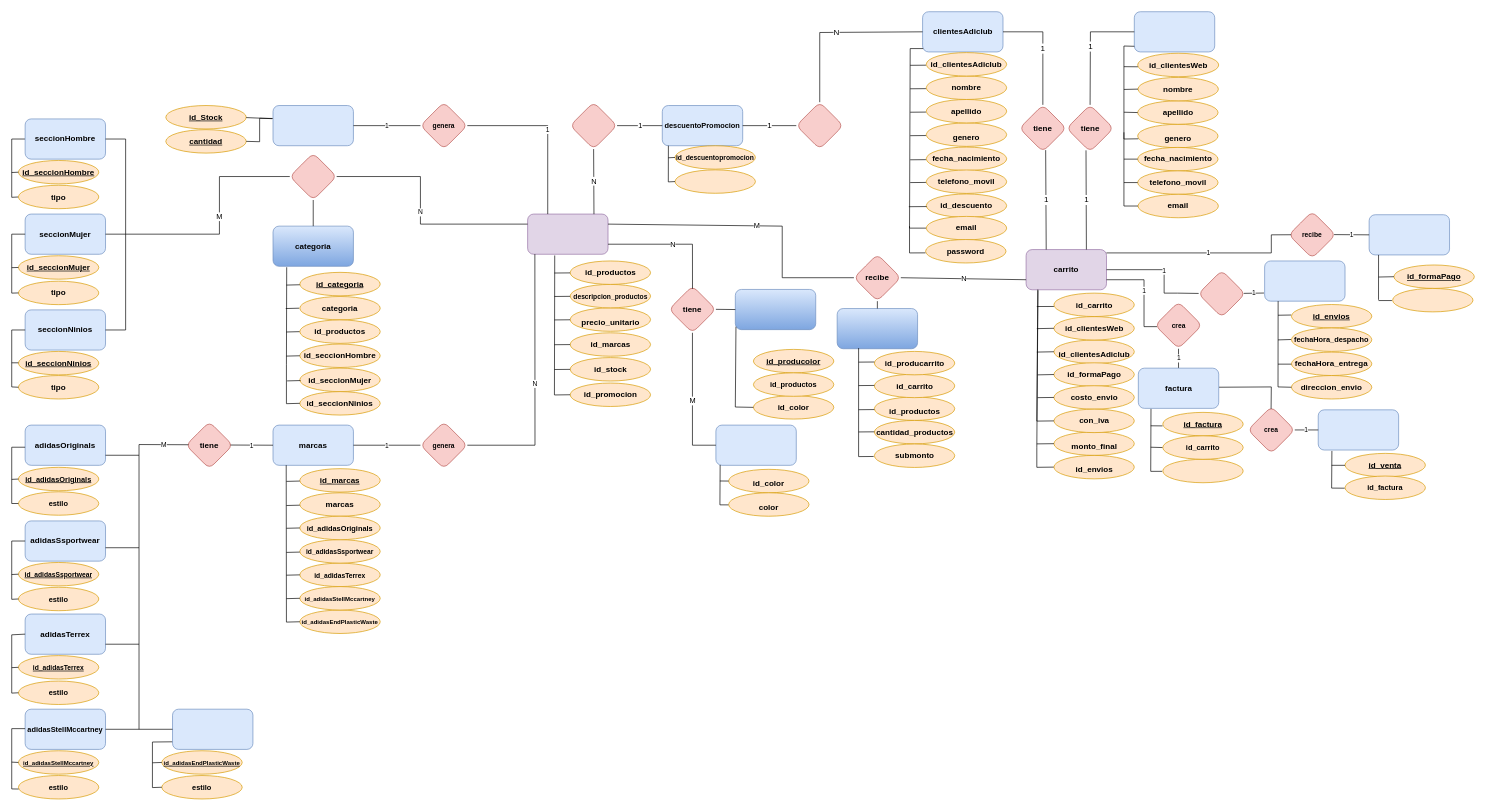
This 1486x811 diagram has some shape labels left out. The centre of each missing label's shape, as x and y in pixels:
"adidasEndPlasticWaste" belongs at pixel 212 729.
"clientesweb" belongs at pixel 1174 31.
"colores" belongs at pixel 755 444.
"envios" belongs at pixel 1304 280.
"fecha_compra" belongs at pixel 1202 471.
"formapago" belongs at pixel 1409 234.
"Metodo_pago" belongs at pixel 1432 300.
"obtiene" belongs at pixel 593 125.
"pertenece" belongs at pixel 313 176.
"porcentaje de descuento" belongs at pixel 714 181.
"productos" belongs at pixel 567 233.
"productos_carrito" belongs at pixel 877 328.
"productos_color" belongs at pixel 775 309.
"proprociona" belongs at pixel 1221 293.
"se le aplica" belongs at pixel 819 125.
"stock" belongs at pixel 312 125.
"venta" belongs at pixel 1358 429.
